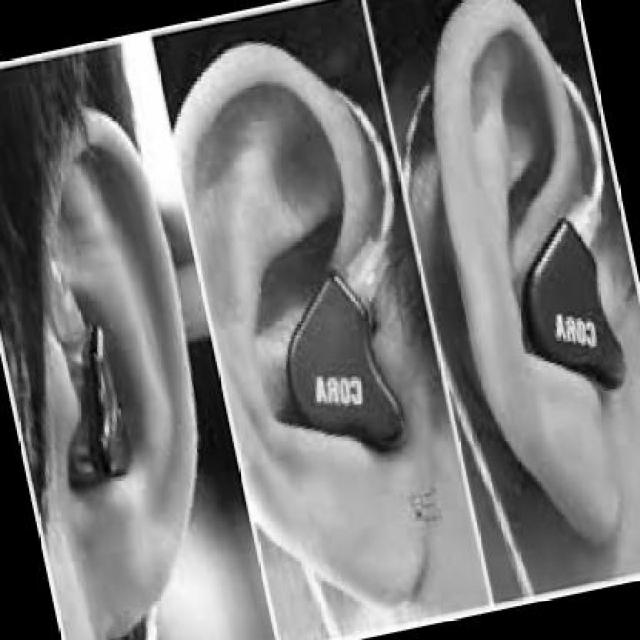earphone: (286, 253, 416, 459), (518, 202, 640, 404), (65, 318, 152, 518)
